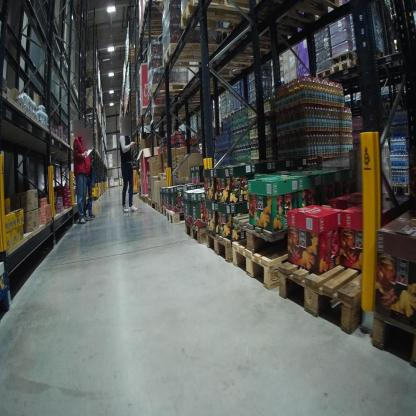pallet: (274, 238, 390, 342), (228, 235, 303, 292), (230, 205, 300, 259), (368, 295, 413, 366), (177, 0, 258, 34), (241, 14, 308, 51), (160, 39, 225, 75), (257, 1, 340, 26), (221, 37, 269, 74), (328, 56, 376, 86), (202, 225, 237, 266), (182, 216, 215, 246), (354, 52, 395, 75), (146, 80, 191, 100), (314, 67, 346, 86), (135, 27, 169, 44), (138, 13, 168, 32), (166, 206, 189, 228), (142, 1, 170, 19), (139, 103, 172, 117), (392, 183, 412, 202), (134, 116, 167, 127), (126, 45, 140, 55), (161, 204, 169, 219), (142, 193, 150, 203), (155, 202, 161, 214), (148, 198, 154, 208), (152, 201, 157, 211)
pallet_truck: (119, 154, 147, 195)
